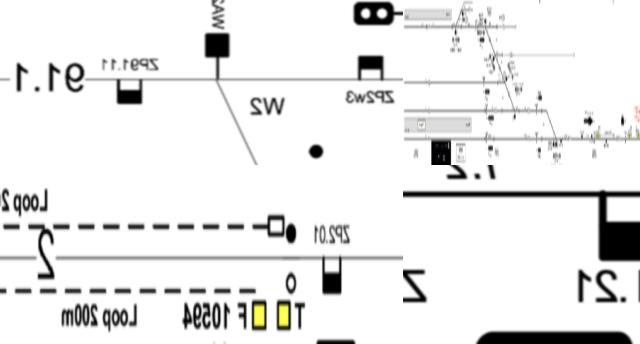mainsignal: (535, 95, 542, 100)
radzaehler: (595, 187, 640, 265), (312, 254, 346, 298), (112, 72, 146, 108), (357, 49, 388, 85), (580, 134, 583, 139), (590, 133, 592, 140), (560, 138, 562, 144)
trackjoint: (507, 90, 510, 99), (540, 134, 543, 143), (488, 36, 491, 44), (498, 65, 501, 72), (484, 134, 486, 143), (484, 106, 486, 115), (425, 23, 427, 32), (451, 25, 454, 30), (501, 107, 503, 114), (492, 135, 494, 142), (476, 24, 478, 31), (497, 80, 499, 86), (540, 108, 542, 113), (460, 25, 462, 30)
tracknumber: (10, 60, 90, 98), (33, 228, 59, 289), (527, 104, 530, 117), (616, 135, 621, 142), (428, 106, 431, 115), (568, 134, 571, 141), (527, 135, 530, 142), (494, 107, 497, 114), (468, 7, 471, 14), (502, 23, 505, 30), (509, 52, 513, 57), (428, 78, 430, 86), (428, 136, 430, 144), (429, 24, 430, 29)
weiche: (196, 28, 236, 90), (504, 75, 509, 87), (453, 23, 457, 36), (512, 108, 516, 121), (492, 52, 497, 62), (552, 134, 555, 150), (555, 135, 558, 149), (460, 9, 464, 16), (484, 18, 486, 28)
